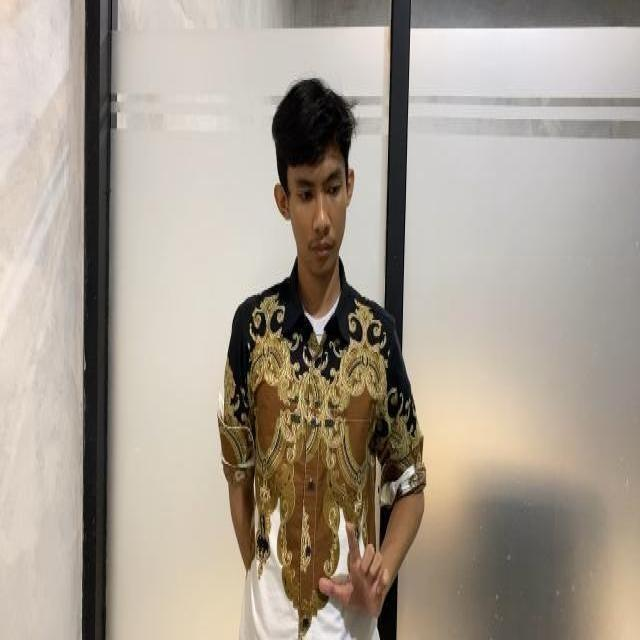L: (317, 516, 403, 624)
